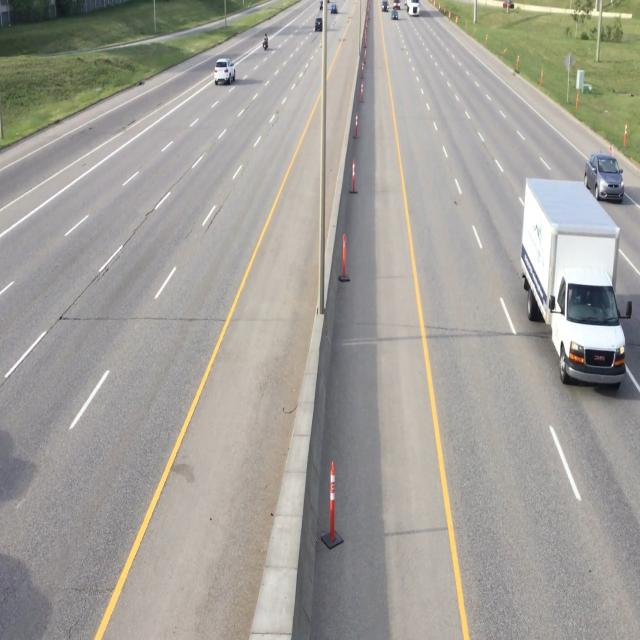Car: (520, 174, 630, 390), (586, 148, 627, 204), (214, 53, 235, 88)
